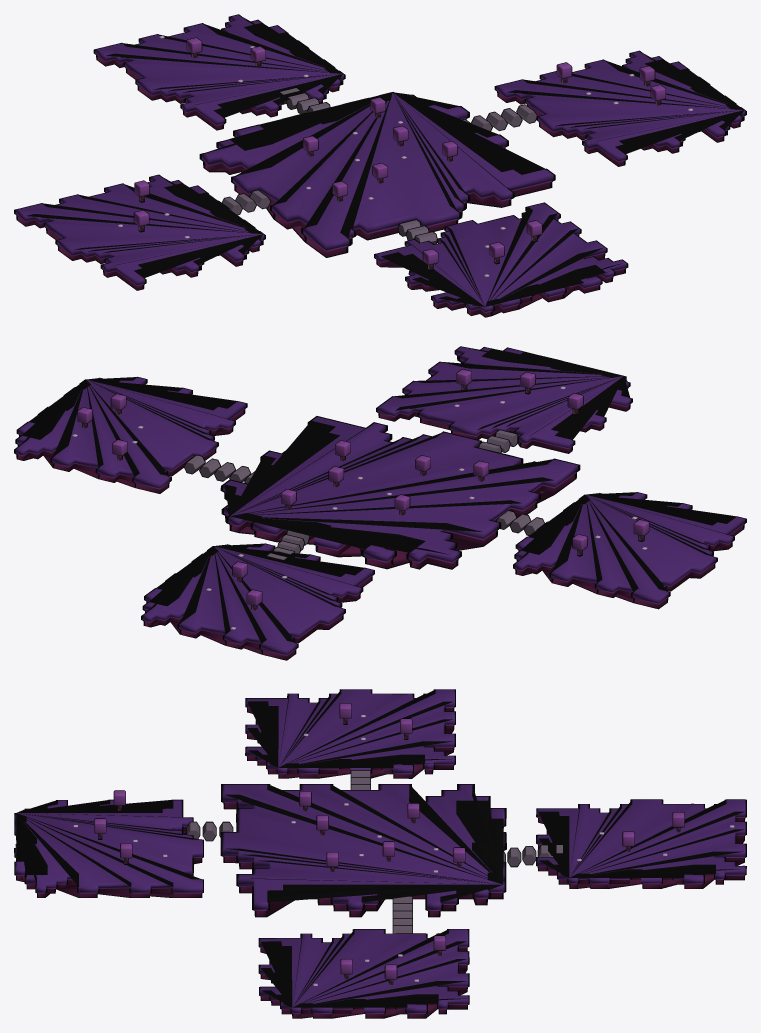
File: purple.fbx
3 views of the same model, one above another, from view 1: azimuth 30°, elevation 25°; view 2: azimuth 150°, elevation 25°; view 3: azimuth 270°, elevation 25° (orthographic).
Parts seen in each view (by area): view 1: Island.001, Island.002, Island.004, Island.003, Island.005; view 2: Island.001, Island.002, Island.005, Island.003, Island.004; view 3: Island.001, Island.004, Island.005, Island.003, Island.002.
Boxes of the visible parts, x1,y1,x2,y2 form: Island.001: [199, 92, 555, 257]; Island.002: [14, 174, 265, 290]; Island.004: [374, 202, 628, 317]; Island.003: [494, 50, 746, 166]; Island.005: [93, 14, 345, 130]; Island.001: [220, 416, 580, 569]; Island.002: [513, 492, 746, 609]; Island.005: [141, 543, 374, 660]; Island.003: [14, 376, 247, 493]; Island.004: [376, 346, 632, 453]; Island.001: [220, 784, 506, 917]; Island.004: [14, 799, 203, 897]; Island.005: [536, 799, 746, 888]; Island.003: [258, 929, 469, 1018]; Island.002: [245, 689, 455, 778].
Bounding box in the file's own units: 390608 × 18158 × 377852.
